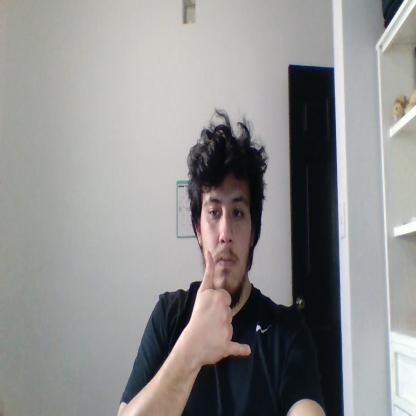Y: (191, 250, 251, 364)
